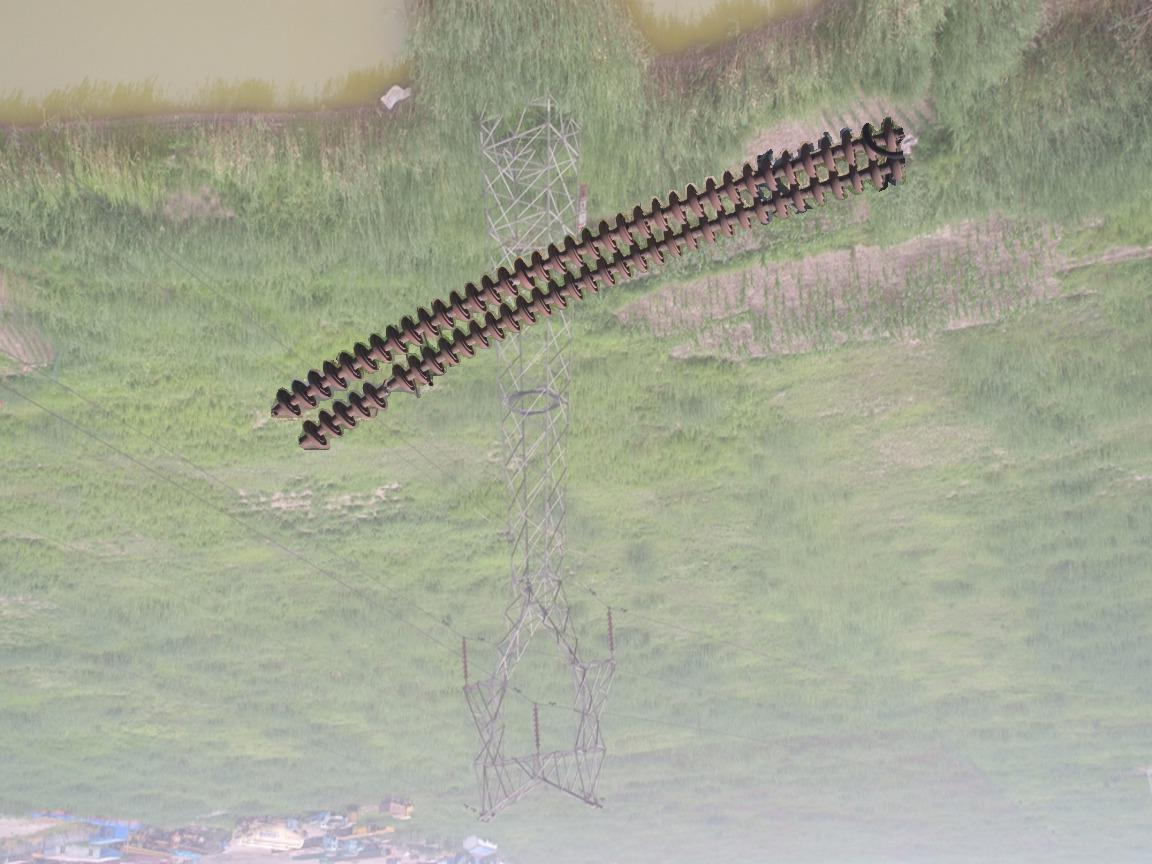insulator: (269, 112, 912, 451), (603, 607, 620, 654), (458, 633, 473, 683), (528, 701, 543, 750)
insulator_stringdrop: (360, 362, 419, 413)
